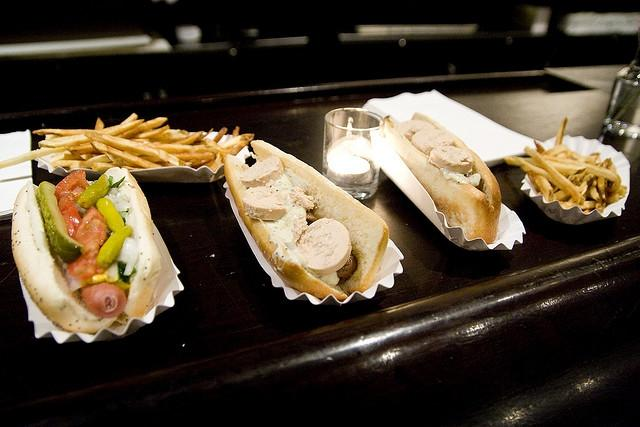tomato: (67, 206, 107, 280), (58, 193, 82, 238), (56, 169, 90, 192)
